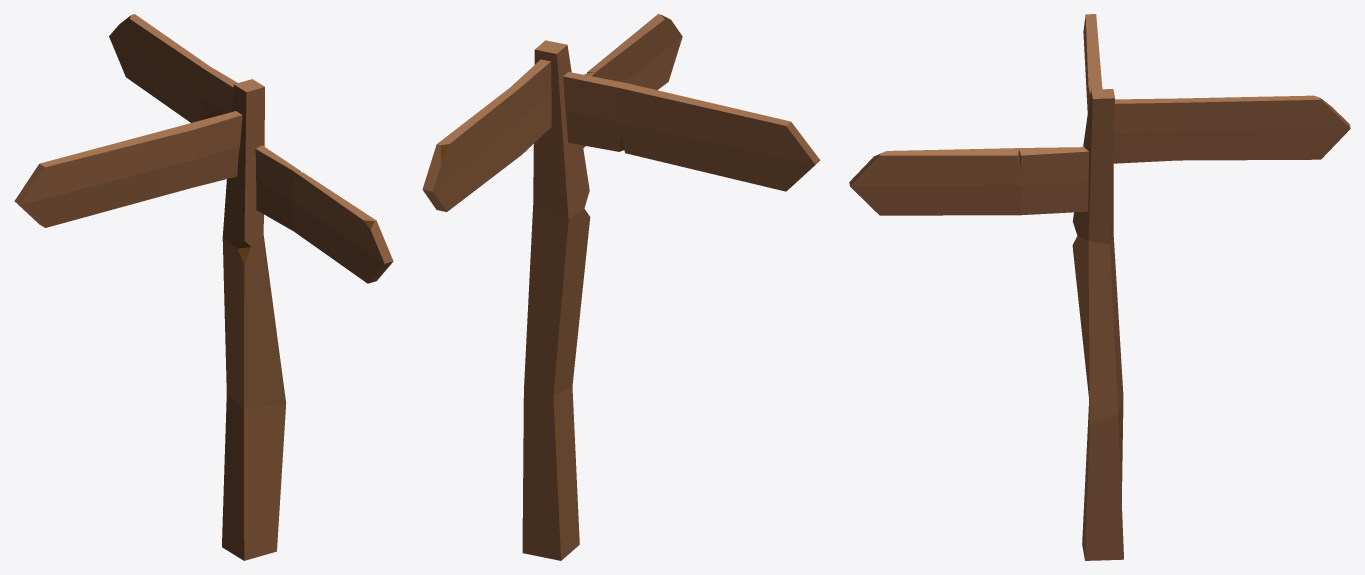
The model's file is SignPost_Wood_Triple.glb.
3 views of the same model, side by side, from view 1: azimuth 30°, elevation 25°; view 2: azimuth 150°, elevation 25°; view 3: azimuth 270°, elevation 25° (orthographic). The views are drawn at different scales.
Parts seen in each view (by area): view 1: SignPost_Wood_03; view 2: SignPost_Wood_03; view 3: SignPost_Wood_03.
Boxes of the visible parts, x1,y1,x2,y2 form: SignPost_Wood_03: (14, 14, 393, 560); SignPost_Wood_03: (422, 14, 820, 560); SignPost_Wood_03: (849, 14, 1350, 560).
Size of what is drawn, in the model's own units: 0.9249 by 1.52 by 1.51.
Materials: 1 (1 with a texture image).
